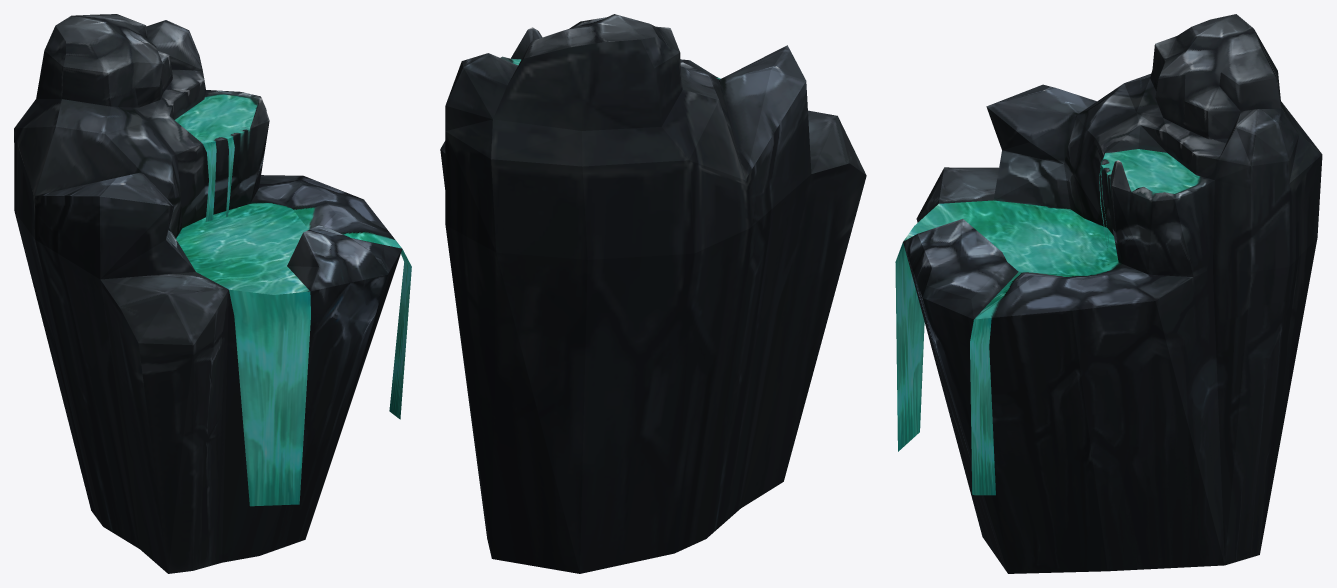
The model's file is Mine_shanti01.FBX.
3 views of the same model, side by side, from view 1: azimuth 30°, elevation 25°; view 2: azimuth 150°, elevation 25°; view 3: azimuth 270°, elevation 25° (orthographic). The views are drawn at different scales.
Visible parts, largest first — view 1: shanti01; view 2: shanti01; view 3: shanti01.
Boxes of the visible parts, x1=… form: shanti01: x1=14, y1=14, x2=411, y2=573; shanti01: x1=440, y1=14, x2=866, y2=573; shanti01: x1=895, y1=14, x2=1322, y2=573.
Bounding box in the file's own units: 381 × 596 × 471.
